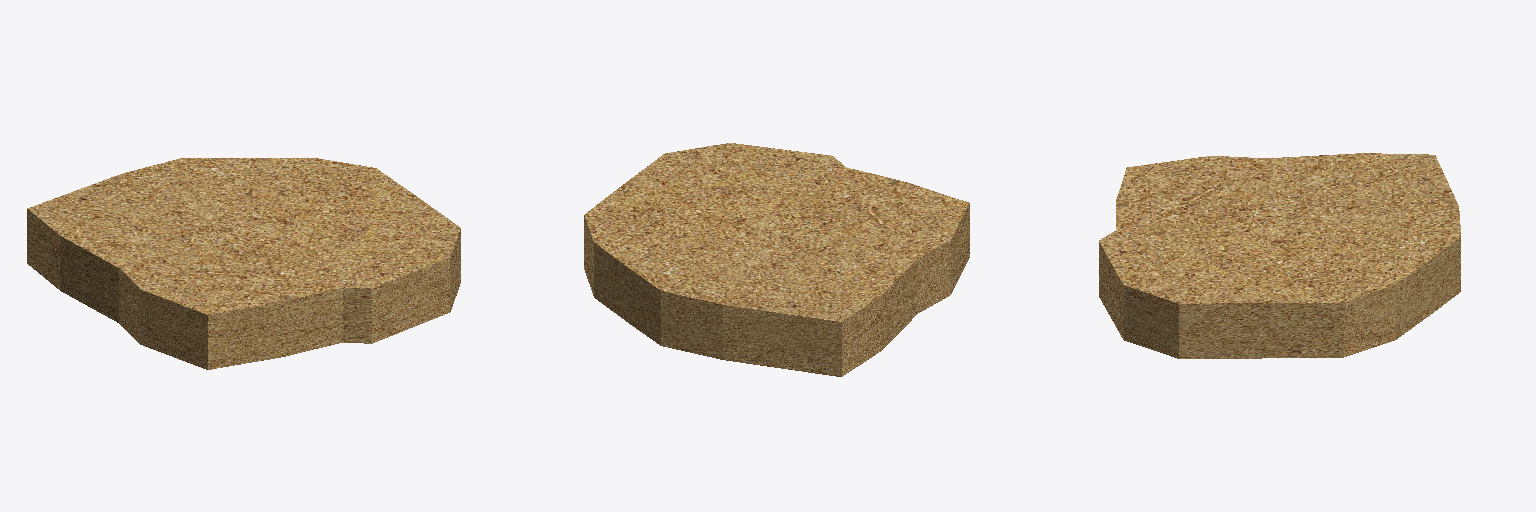
The picture shows the model from 3 angles: view 1: azimuth 30°, elevation 25°; view 2: azimuth 150°, elevation 25°; view 3: azimuth 270°, elevation 25°; orthographic projection.
Parts seen in each view (by area): view 1: Cube; view 2: Cube; view 3: Cube.
Part boxes in pixels (x1,y1,x2,y2): Cube: (27,158,460,369); Cube: (584,143,969,376); Cube: (1099,153,1460,358).
Bounding box in the file's own units: 2.6 × 0.4443 × 2.64.
1 materials, 1 textured.